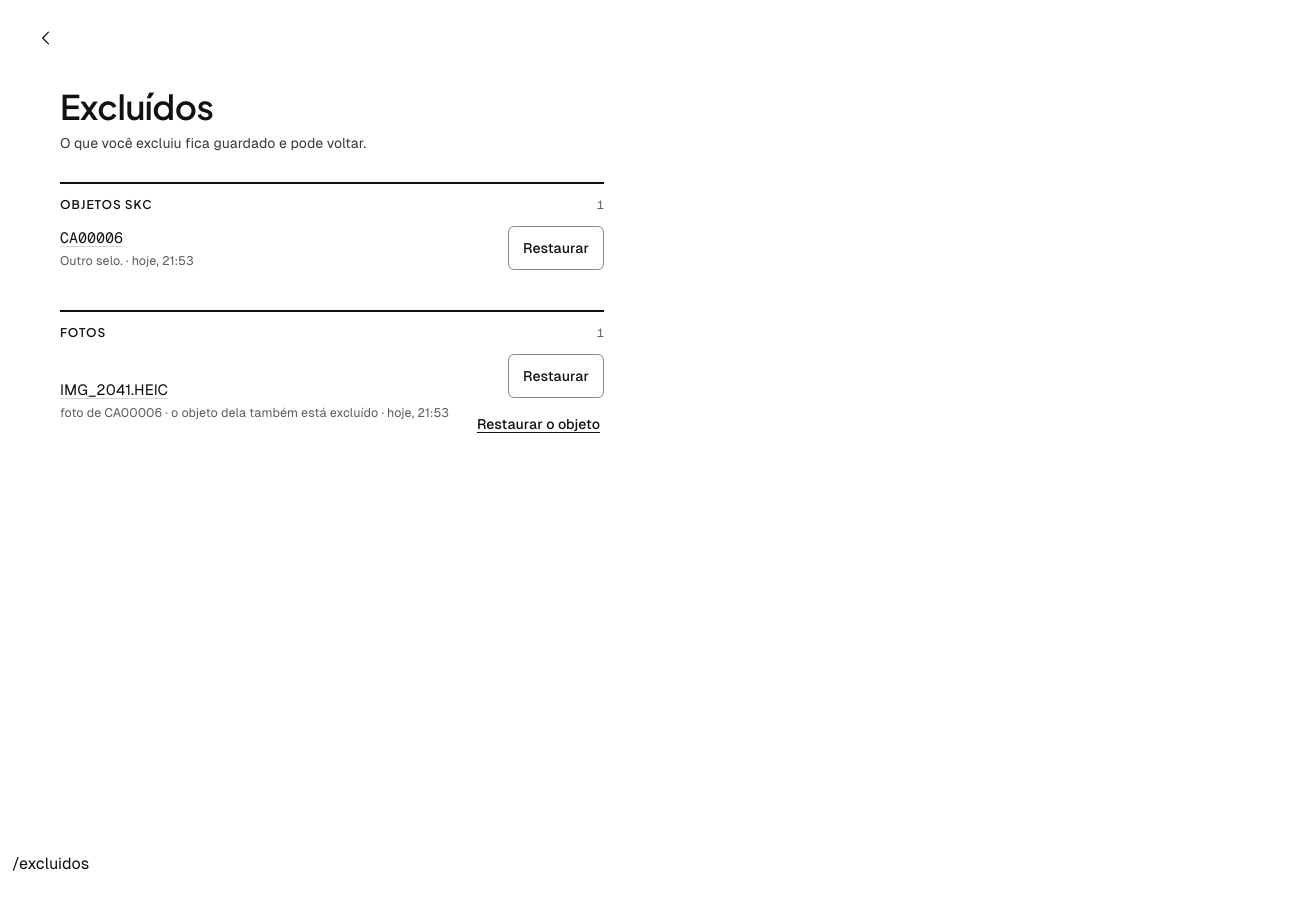
Test case: restaurar, com aprovação › a foto excluída de um objeto excluído: «o objeto dela também está excluído» e «Restaurar o objeto», que restaura só o objeto
The width and height of the screenshot is (1292, 900).
Expected: the text "foto de CA00006 · o objeto dela também está excluído · hoje, " is shown, [60, 405, 449, 420]
Click the button "Restaurar o objeto".
click(538, 424)  # box [473, 402, 604, 446]
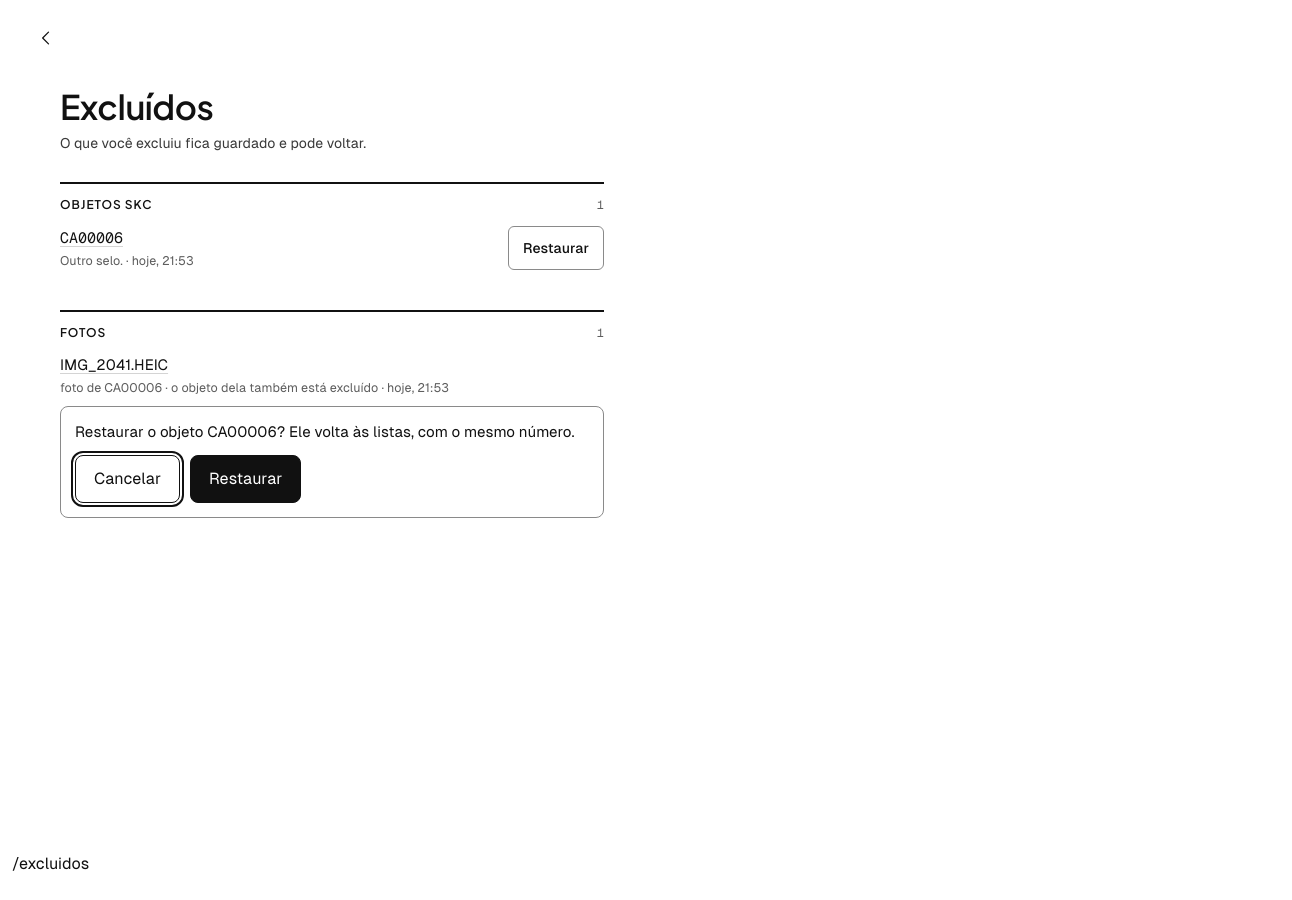
Click the button "Restaurar" below "IMG_2041.HEIC".
click(246, 479)  # box [190, 455, 301, 503]
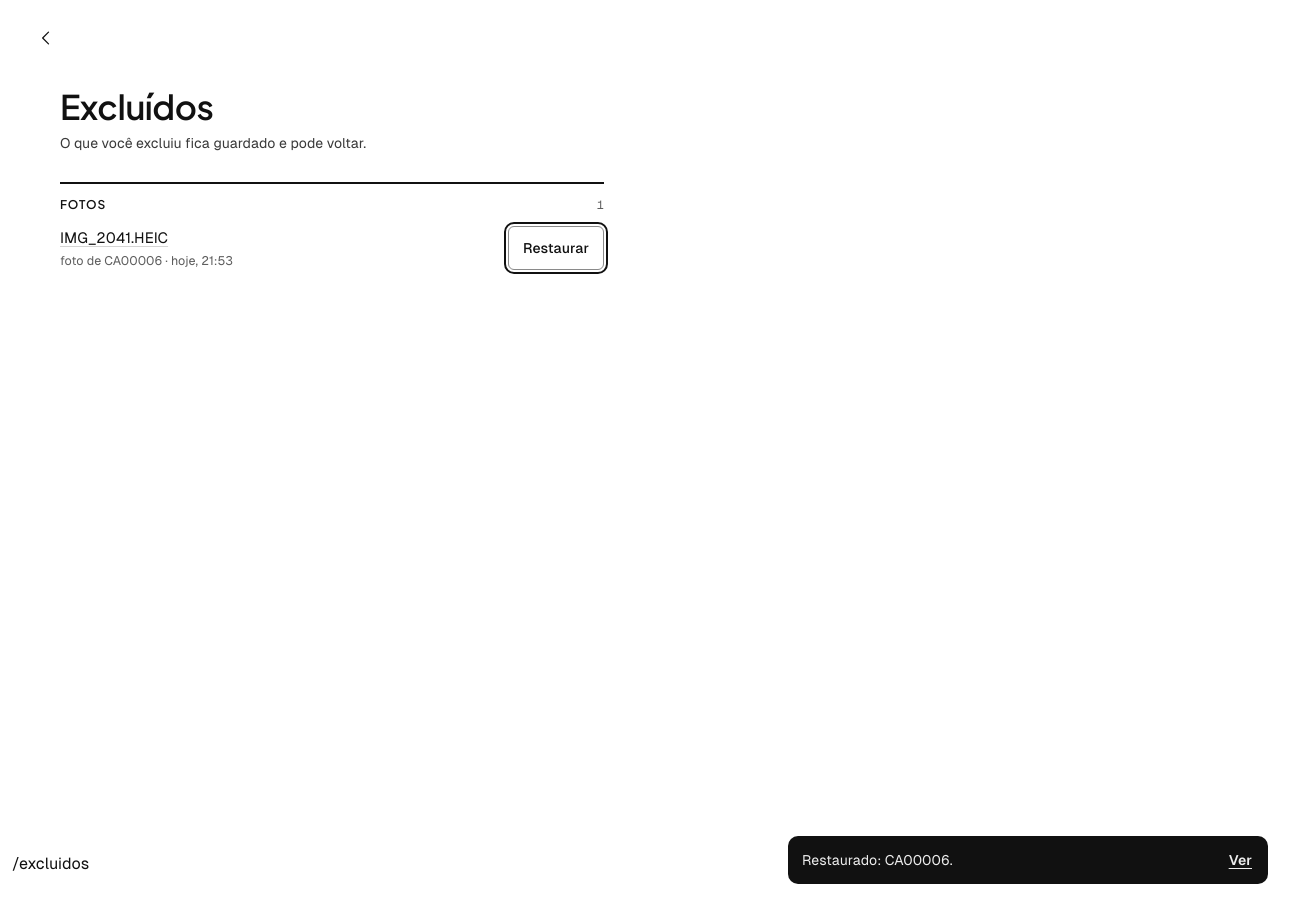
Now the text "Restaurar o objeto" is gone
Now the text "foto de CA00006 · hoje, 21:53" is shown, box [60, 253, 233, 268]
Now the heading "Objetos SKC" is gone
